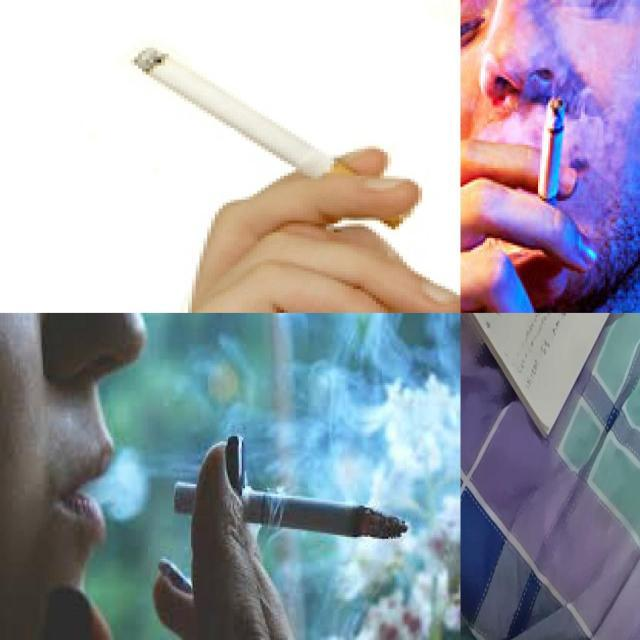smoking: (126, 42, 350, 178), (173, 479, 410, 538), (538, 94, 560, 204)
